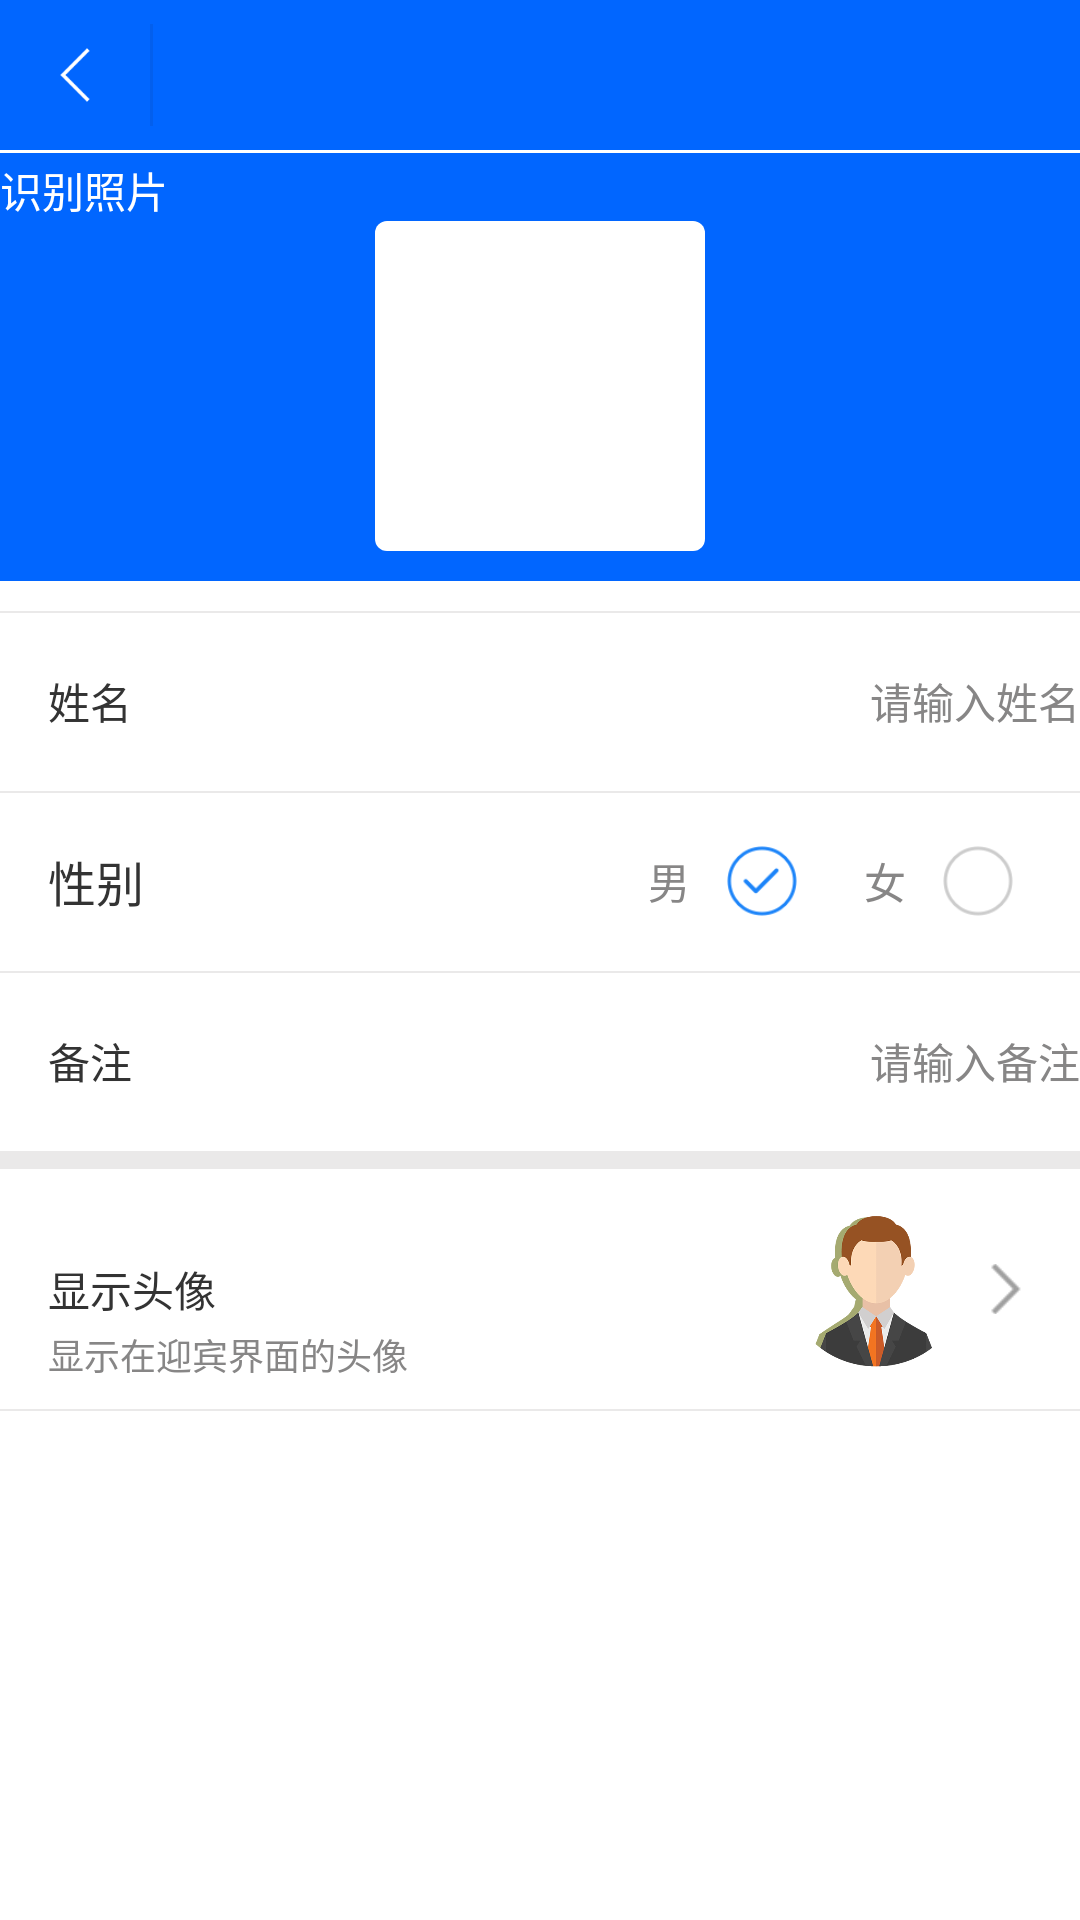

Named icons in this screenshot (1080 × 1920) and their bounding boxes, (x1, y1, x2, y2):
back: (60, 48, 90, 102)
morentouxiang: (815, 1216, 932, 1367)
xianyou: (992, 1264, 1020, 1314)
